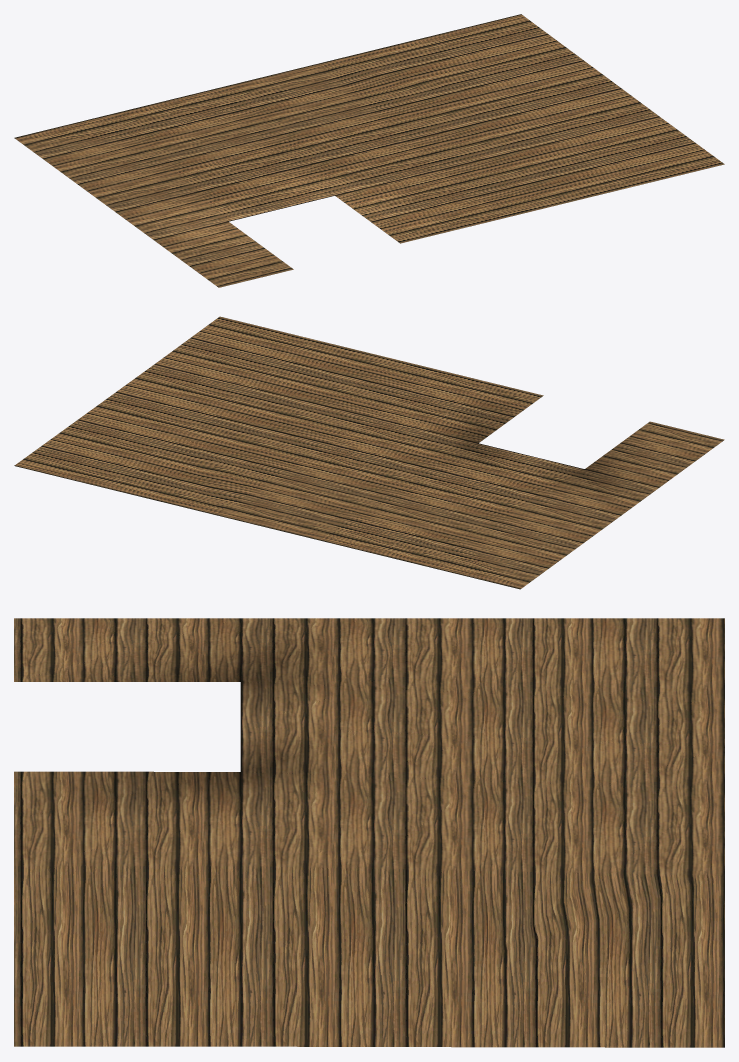
File: LAKETOWN_EXTERIOR_PS_LT_PIER_WOOD04.fbx
3 renders of one model, top to bottom at view 1: azimuth 30°, elevation 25°; view 2: azimuth 150°, elevation 25°; view 3: azimuth 270°, elevation 25°, orthographic. The views are drawn at different scales.
Visible parts, largest first — view 1: LAKETOWN_EXTERIOR_PS_LT_PIER_WOOD04; view 2: LAKETOWN_EXTERIOR_PS_LT_PIER_WOOD04; view 3: LAKETOWN_EXTERIOR_PS_LT_PIER_WOOD04.
Part boxes in pixels (x1,y1,x2,y2): LAKETOWN_EXTERIOR_PS_LT_PIER_WOOD04: (14,14,724,287); LAKETOWN_EXTERIOR_PS_LT_PIER_WOOD04: (14,316,724,589); LAKETOWN_EXTERIOR_PS_LT_PIER_WOOD04: (14,618,724,1047).
Size of the model in its own units: 167525 by 0.0305 by 117197.
1 material, 1 textured.
